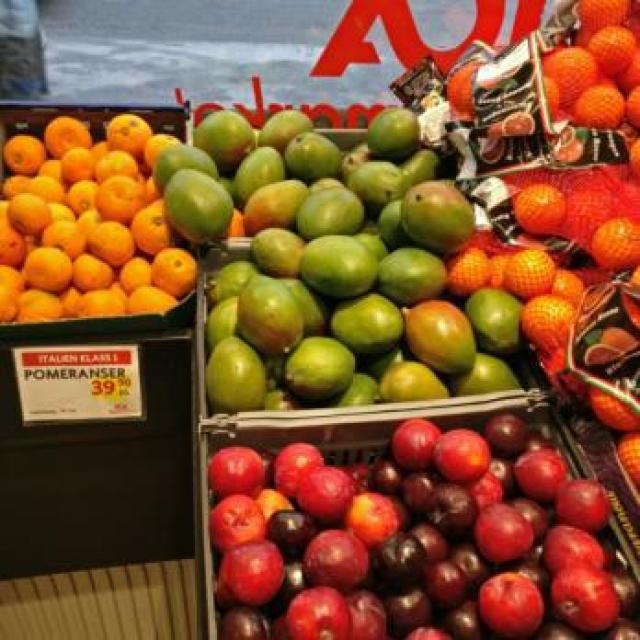Plum: (550, 559, 629, 624), (469, 498, 537, 563), (283, 579, 355, 638), (474, 566, 540, 629), (362, 526, 423, 594), (298, 465, 366, 517), (431, 429, 496, 480), (515, 441, 574, 493), (208, 443, 261, 491)
